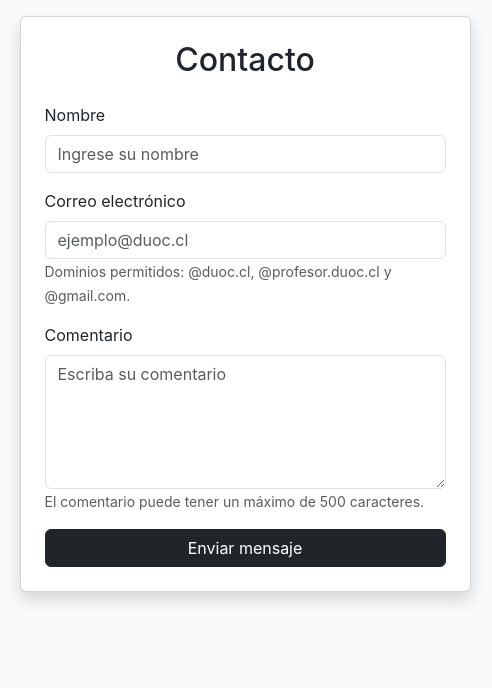
Test case: Pruebas del módulo Acceso, Formularios y Cliente - Benjamin › debe mostrar errores al enviar el formulario de contacto vacío
Click the button "Enviar mensaje": (245, 548) [44,529,446,567]
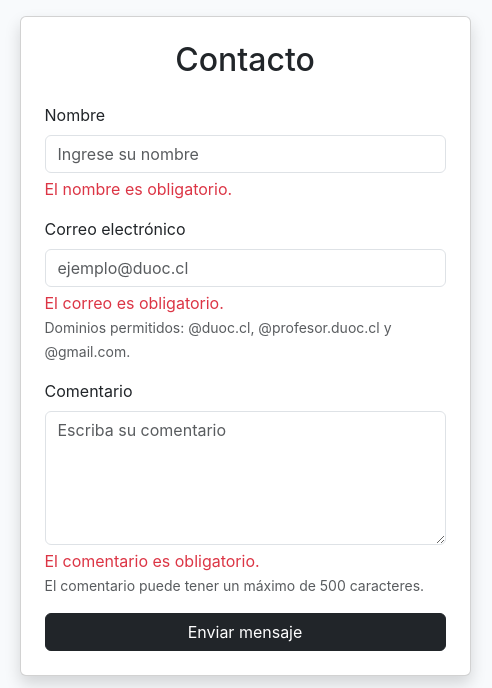
Expected: the text "El nombre es obligatorio." is shown, [44,179,232,199]
Expected: the text "El correo es obligatorio." is shown, [44,293,224,313]
Expected: the text "El comentario es obligatorio." is shown, [44,551,260,571]
